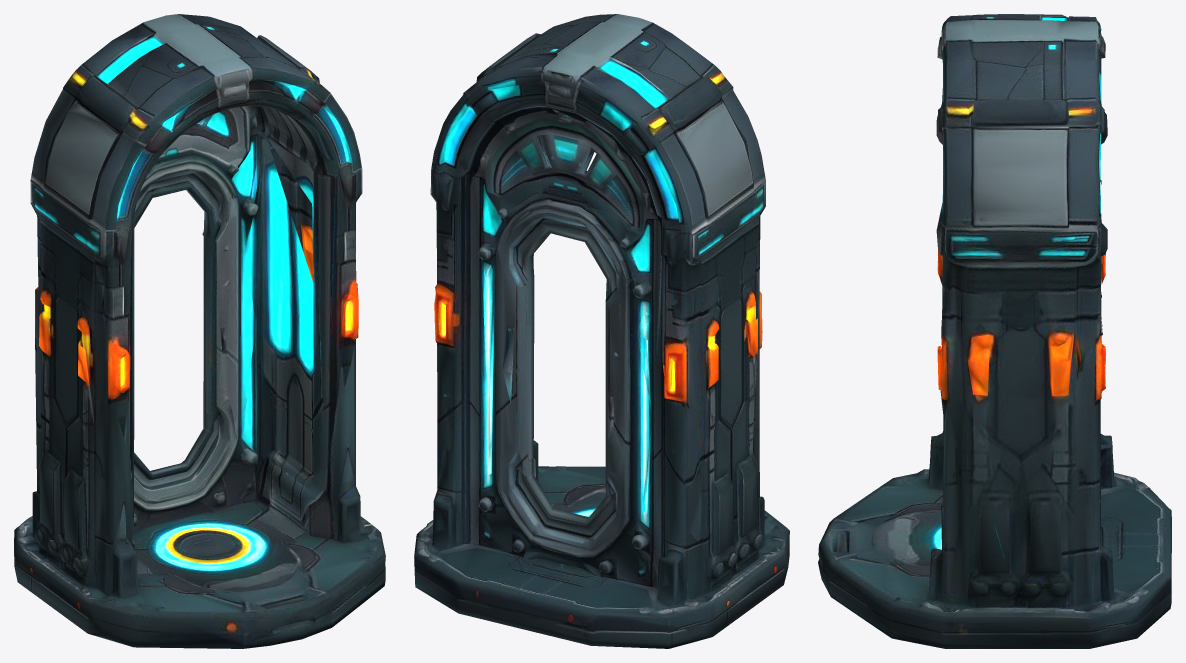
The model's file is portal_anchor.glb.
The picture shows the model from 3 angles, left to right: view 1: azimuth 30°, elevation 25°; view 2: azimuth 150°, elevation 25°; view 3: azimuth 270°, elevation 25°; orthographic projection. The views are drawn at different scales.
Size of the model in its own units: 1.1 by 1.9 by 1.11.
1 material, 1 textured.
